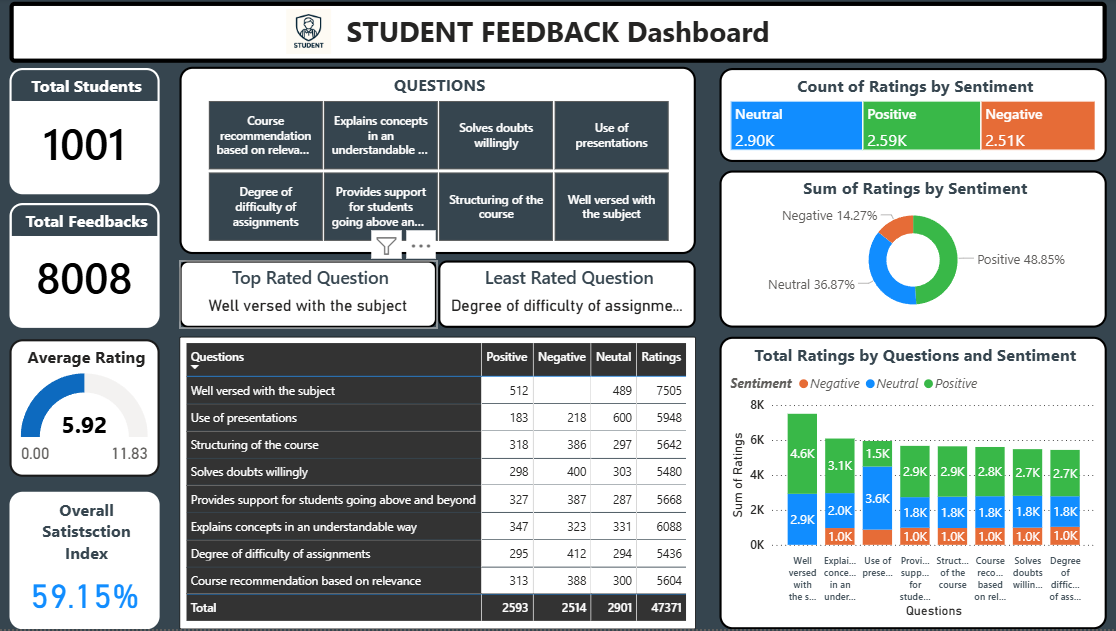

What the dashboard file says about the page in this screenshot:
{"tool":"powerbi","page":{"name":"Page 1","canvas":[1280,720],"ordinal":0},"visuals":[{"type":"card","title":"Total Feedbacks","fields":{"Values":["CountNonNull(student_feedback.Value)"]},"box":[14.3,233.8,171,142.5],"z":0},{"type":"gauge","title":"Average Rating","fields":{"Y":["Avg(student_feedback.Value)"]},"box":[14.3,389.1,171,156.8],"z":1000},{"type":"slicer","title":"QUESTIONS","fields":{"Values":["student_feedback.Attribute"]},"box":[208.1,78.4,588.7,213.8],"z":2000},{"type":"donutChart","title":"Sum of Ratings by Sentiment","fields":{"Category":["student_feedback.Sentiment"],"Y":["Sum(student_feedback.Value)"]},"box":[823.9,196.7,441.9,179.6],"z":3000},{"type":"columnChart","title":"Total Ratings by Questions and Sentiment","fields":{"Category":["student_feedback.Attribute"],"Y":["Sum(student_feedback.Value)"],"Series":["student_feedback.Sentiment"]},"box":[823.9,386.3,441.9,333.5],"z":4000},{"type":"card","title":"Top Rated Question","fields":{"Values":["Min(student_feedback.Attribute)"]},"box":[208.1,299.3,293.6,77],"z":5000},{"type":"card","title":"Least Rated Question","fields":{"Values":["Min(student_feedback.Attribute)"]},"box":[503.2,299.3,293.6,77],"z":6000},{"type":"textbox","box":[14.3,4.3,1251.5,69.8],"z":7000},{"type":"tableEx","fields":{"Values":["student_feedback.Attribute","student_feedback.Positive","student_feedback.Negative","student_feedback.Neutal","Sum(student_feedback.Value)"]},"box":[208.1,386.5,588.7,333.5],"z":8000},{"type":"card","title":"Overall Satistsction Index","fields":{"Values":["student_feedback.Satisfaction Index"]},"box":[14.3,563,171,156.8],"z":9000},{"type":"card","title":"Total Students","fields":{"Values":["Count(student_feedback.Student ID)"]},"box":[14.3,79.8,171,144],"z":10000},{"type":"treemap","title":"Count of  Ratings by Sentiment","fields":{"Values":["CountNonNull(student_feedback.Ratings)"],"Group":["student_feedback.Sentiment"]},"box":[823.9,79.8,441.9,106.9],"z":11000},{"type":"image","box":[325,1.4,61.3,74.1],"z":12000}]}

Visuals, with their boxes in screenshot pixels (x1, y1, x2, y2), scaled from the page's 1280x720 canvas onto the 1116x631 screenshot:
"Total Feedbacks" card: 12, 205, 162, 330
"Average Rating" gauge: 12, 341, 162, 478
"QUESTIONS" slicer: 181, 69, 695, 256
"Sum of Ratings by Sentiment" donutChart: 718, 172, 1104, 330
"Total Ratings by Questions and Sentiment" columnChart: 718, 339, 1104, 630
"Top Rated Question" card: 181, 262, 437, 330
"Least Rated Question" card: 439, 262, 695, 330
textbox: 12, 4, 1104, 65
tableEx - student_feedback.Attribute x student_feedback.Positive: 181, 339, 695, 630
"Overall Satistsction Index" card: 12, 493, 162, 630
"Total Students" card: 12, 70, 162, 196
"Count of  Ratings by Sentiment" treemap: 718, 70, 1104, 164
image: 283, 1, 337, 66
